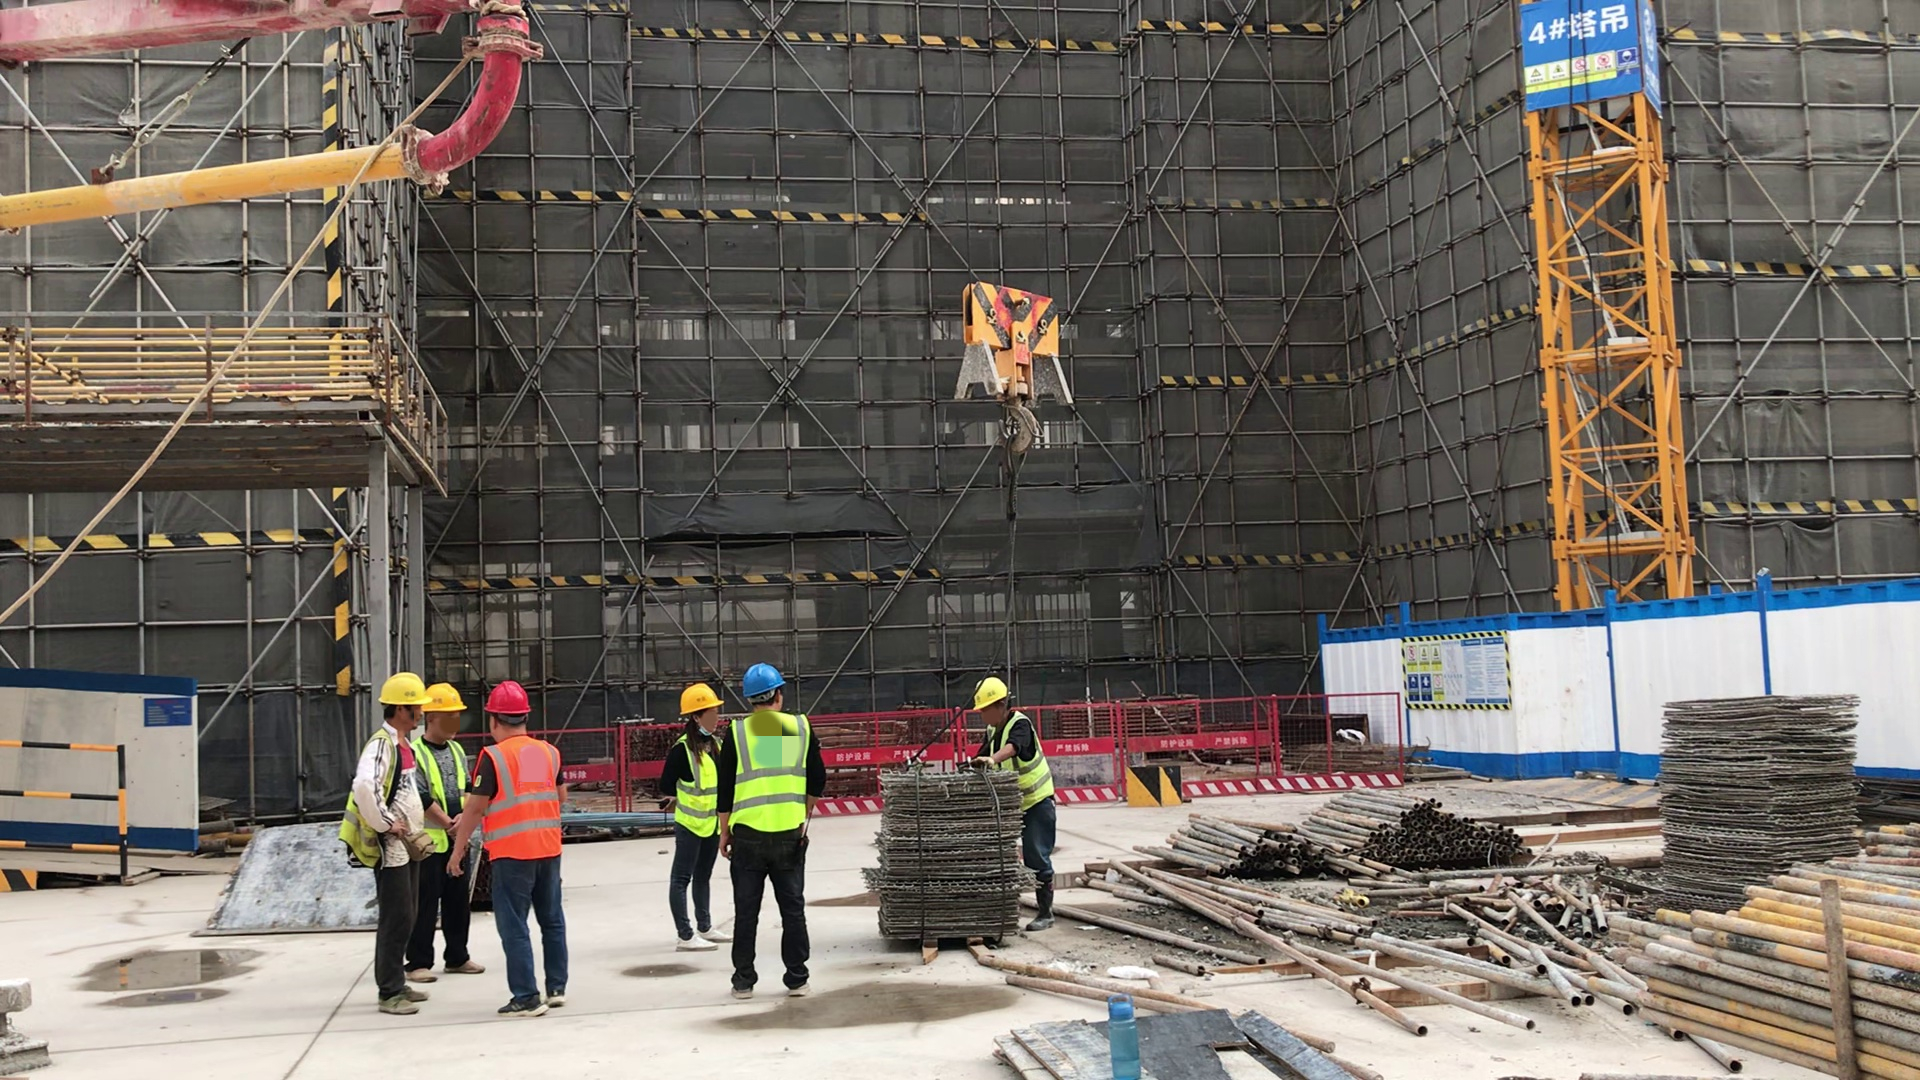fence: (1184, 690, 1404, 793), (7, 732, 129, 886), (811, 701, 880, 819), (1058, 700, 1124, 809), (574, 716, 651, 806)
helmet: (370, 674, 430, 709), (743, 666, 785, 701), (679, 685, 724, 716), (487, 683, 531, 714), (971, 678, 1015, 706), (429, 683, 467, 715)
hook: (950, 278, 1071, 452)
person: (454, 686, 580, 1016), (713, 665, 816, 1000), (337, 673, 432, 1017), (973, 675, 1061, 935), (660, 683, 734, 950), (425, 684, 486, 982)
scaffold: (1631, 845, 1920, 1076), (1325, 783, 1532, 869), (1125, 809, 1325, 882)
slogan: (1526, 11, 1639, 91), (1400, 639, 1504, 705)
vest: (481, 739, 565, 865), (730, 713, 814, 838), (338, 728, 401, 867), (416, 737, 471, 854), (672, 734, 720, 841), (1009, 715, 1053, 812)
